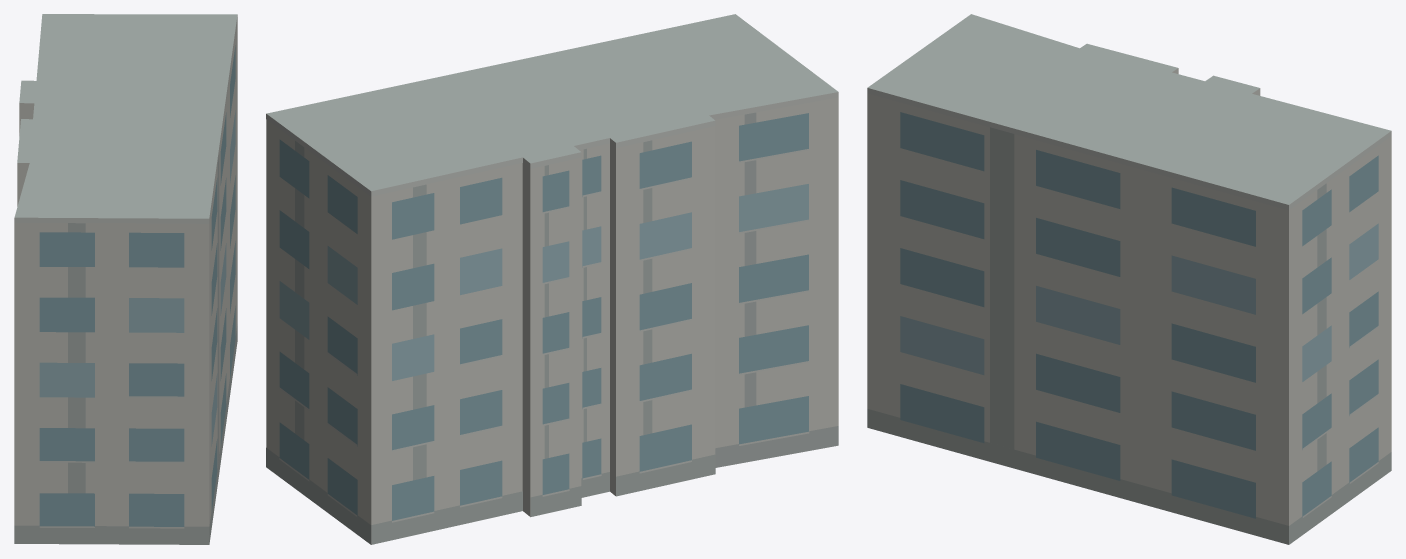
File: survey-upis-32742435.glb
3 renders of one model, left to right at view 1: azimuth 30°, elevation 25°; view 2: azimuth 150°, elevation 25°; view 3: azimuth 270°, elevation 25°, orthographic. The views are drawn at different scales.
Parts seen in each view (by area): view 1: survey-upis-32742435.tmp; view 2: survey-upis-32742435.tmp; view 3: survey-upis-32742435.tmp.
Boxes of the visible parts, bbox=[...] form: survey-upis-32742435.tmp: bbox=[14, 14, 237, 544]; survey-upis-32742435.tmp: bbox=[266, 14, 838, 544]; survey-upis-32742435.tmp: bbox=[867, 14, 1391, 544].
Bounding box in the file's own units: 18.63 × 15.45 × 21.61.
